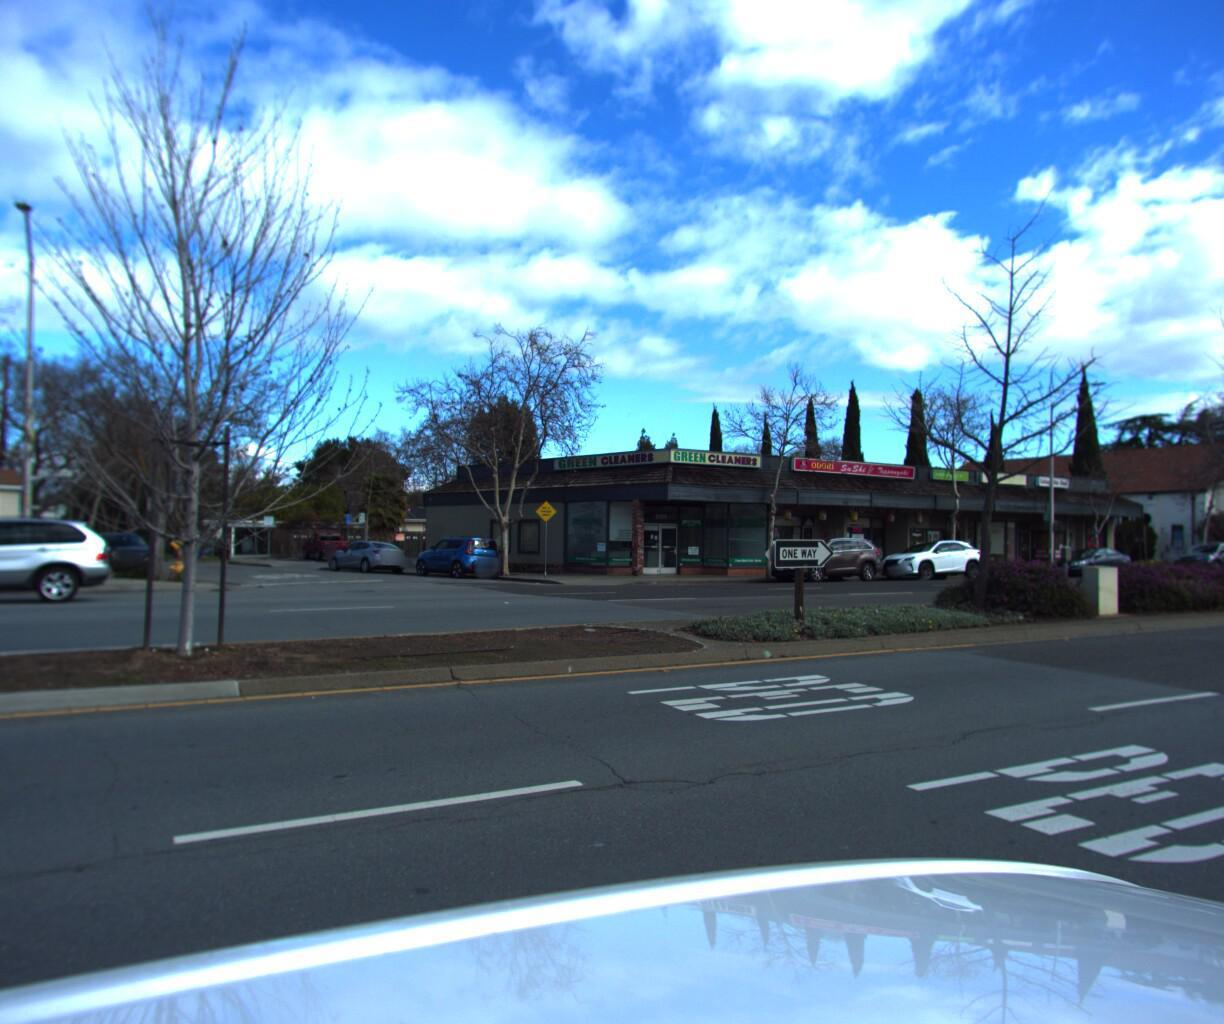car: (759, 535, 889, 582), (868, 534, 990, 577), (412, 536, 513, 578), (321, 539, 421, 574), (82, 536, 173, 574), (1040, 544, 1133, 574), (1161, 538, 1224, 573), (303, 531, 357, 559)
